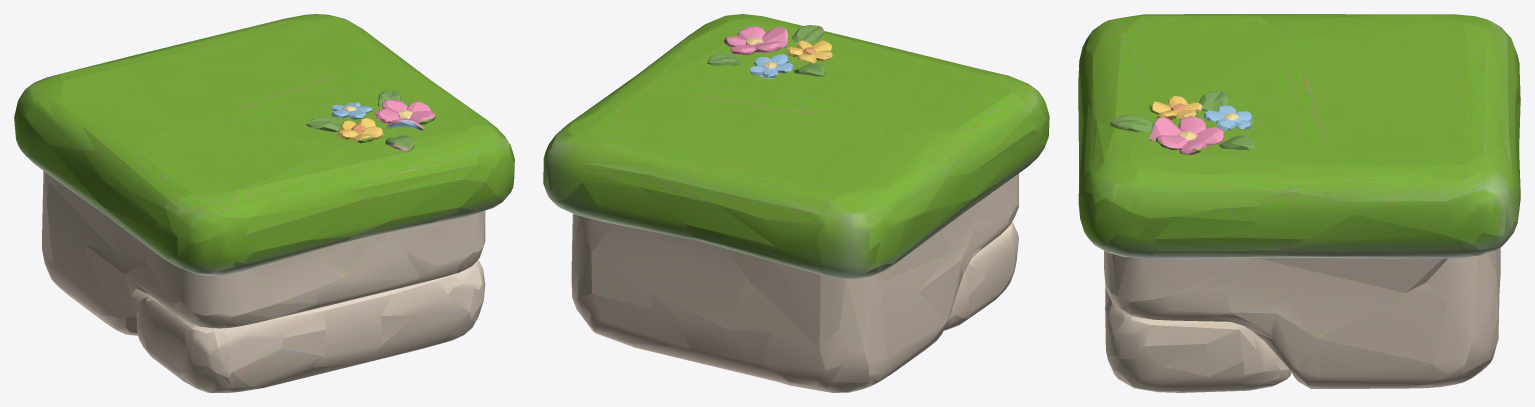
Rendered from step.glb.
3 views of the same model, side by side, from view 1: azimuth 30°, elevation 25°; view 2: azimuth 150°, elevation 25°; view 3: azimuth 270°, elevation 25° (orthographic). The views are drawn at different scales.
Visible parts, largest first — view 1: Mesh_0; view 2: Mesh_0; view 3: Mesh_0.
Boxes of the visible parts, x1,y1,x2,y2 form: Mesh_0: [14, 14, 514, 392]; Mesh_0: [543, 14, 1049, 392]; Mesh_0: [1078, 14, 1520, 392].
Bounding box in the file's own units: 1.9 × 1.17 × 1.9.
1 material, 1 textured.
